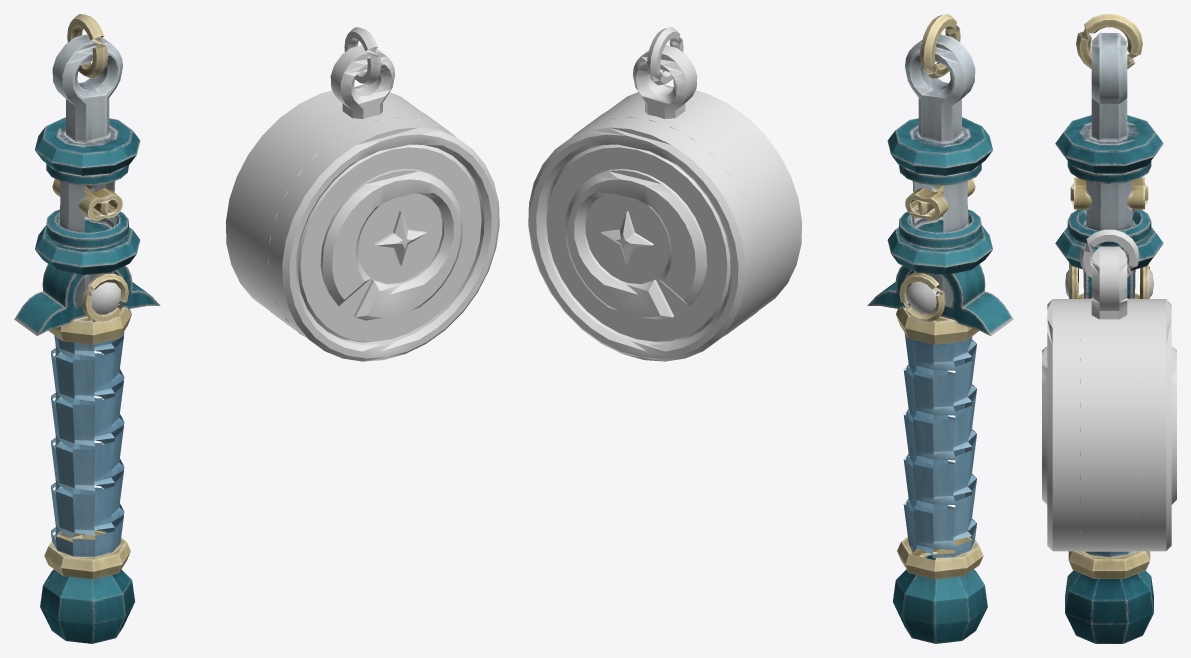
Rendered from Loopline Tether.fbx.
3 views of the same model, side by side, from view 1: azimuth 30°, elevation 25°; view 2: azimuth 150°, elevation 25°; view 3: azimuth 270°, elevation 25° (orthographic).
Visible parts, largest first — view 1: Loopline Tether_Body, HeadRim, HeadWeight, HeadMotif, TopLug.001, TopRing.001, Loopline Tether_Glow; view 2: Loopline Tether_Body, HeadRim, HeadWeight, HeadMotif, TopLug.001, TopRing.001, Loopline Tether_Glow; view 3: Loopline Tether_Body, HeadRim, HeadWeight, TopLug.001, HeadMotif, TopRing.001.
Boxes of the visible parts, bbox=[...] form: Loopline Tether_Body: bbox=[14, 14, 160, 643]; HeadRim: bbox=[225, 86, 499, 361]; HeadWeight: bbox=[239, 97, 481, 342]; HeadMotif: bbox=[320, 169, 463, 321]; TopLug.001: bbox=[330, 45, 395, 118]; TopRing.001: bbox=[344, 27, 380, 85]; Loopline Tether_Glow: bbox=[91, 282, 120, 314]; Loopline Tether_Body: bbox=[867, 14, 1013, 643]; HeadRim: bbox=[528, 86, 802, 361]; HeadWeight: bbox=[546, 97, 788, 342]; HeadMotif: bbox=[564, 169, 707, 321]; TopLug.001: bbox=[632, 45, 697, 118]; TopRing.001: bbox=[647, 27, 683, 85]; Loopline Tether_Glow: bbox=[907, 281, 940, 314]; Loopline Tether_Body: bbox=[1055, 14, 1163, 643]; HeadRim: bbox=[1047, 299, 1171, 551]; HeadWeight: bbox=[1080, 298, 1138, 551]; TopLug.001: bbox=[1091, 246, 1127, 319]; HeadMotif: bbox=[1042, 346, 1176, 504]; TopRing.001: bbox=[1079, 229, 1139, 277].
Bounding box in the file's own units: 1.46 × 1.95 × 0.38.
